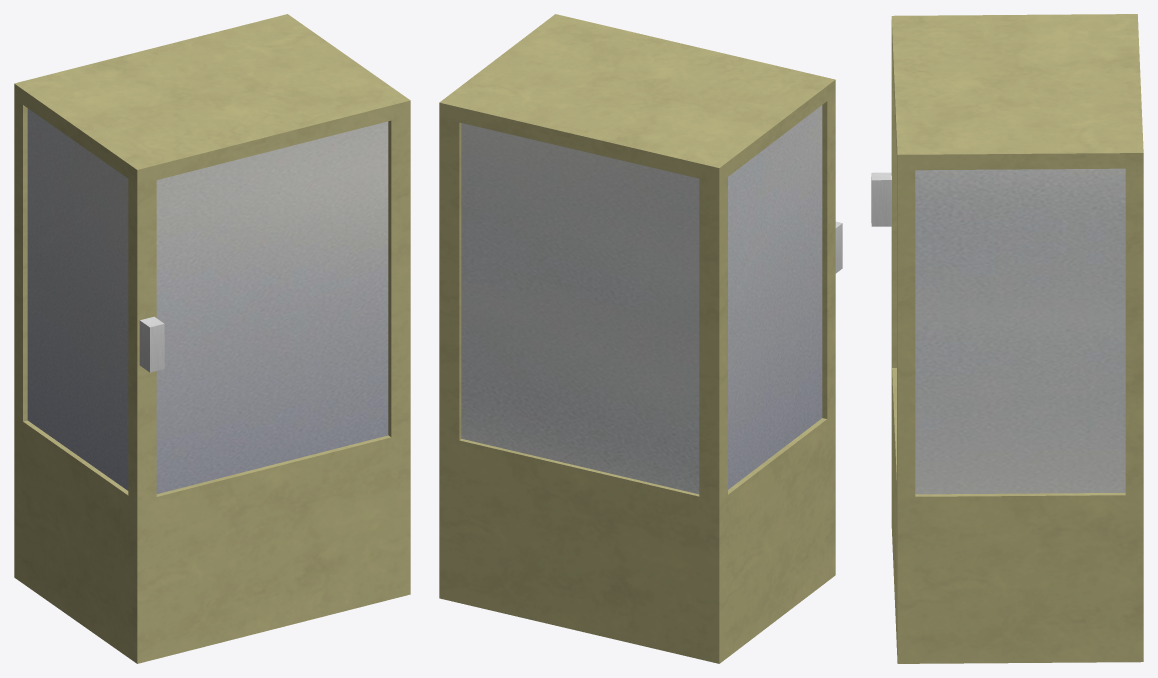
The model's file is LGSeochoB1ConvenienceStoreDisplay.fbx.
3 views of the same model, side by side, from view 1: azimuth 30°, elevation 25°; view 2: azimuth 150°, elevation 25°; view 3: azimuth 270°, elevation 25° (orthographic). The views are drawn at different scales.
Visible parts, largest first — view 1: LGSeochoB1Metal, LGSeochoB1GlassTint, LGSeochoB1ConvenienceStorePlastic; view 2: LGSeochoB1Metal, LGSeochoB1GlassTint; view 3: LGSeochoB1Metal, LGSeochoB1GlassTint, LGSeochoB1ConvenienceStorePlastic.
Part boxes in pixels (left/top/right/bottom): LGSeochoB1Metal: left=14, top=14, right=410, bottom=663; LGSeochoB1GlassTint: left=27, top=108, right=388, bottom=493; LGSeochoB1ConvenienceStorePlastic: left=139, top=316, right=164, bottom=372; LGSeochoB1Metal: left=439, top=14, right=835, bottom=663; LGSeochoB1GlassTint: left=461, top=105, right=822, bottom=494; LGSeochoB1Metal: left=891, top=14, right=1143, bottom=663; LGSeochoB1GlassTint: left=915, top=168, right=1125, bottom=494; LGSeochoB1ConvenienceStorePlastic: left=871, top=172, right=891, bottom=226.
Bounding box in the file's own units: 47.38 × 79.87 × 38.72.
Materials: 3 (3 with a texture image).
